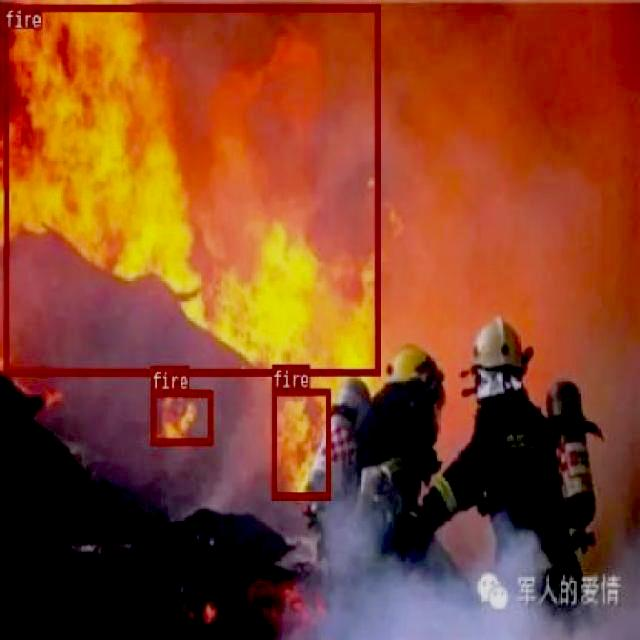fire: (3, 4, 379, 373), (272, 387, 331, 498), (150, 390, 212, 444)
